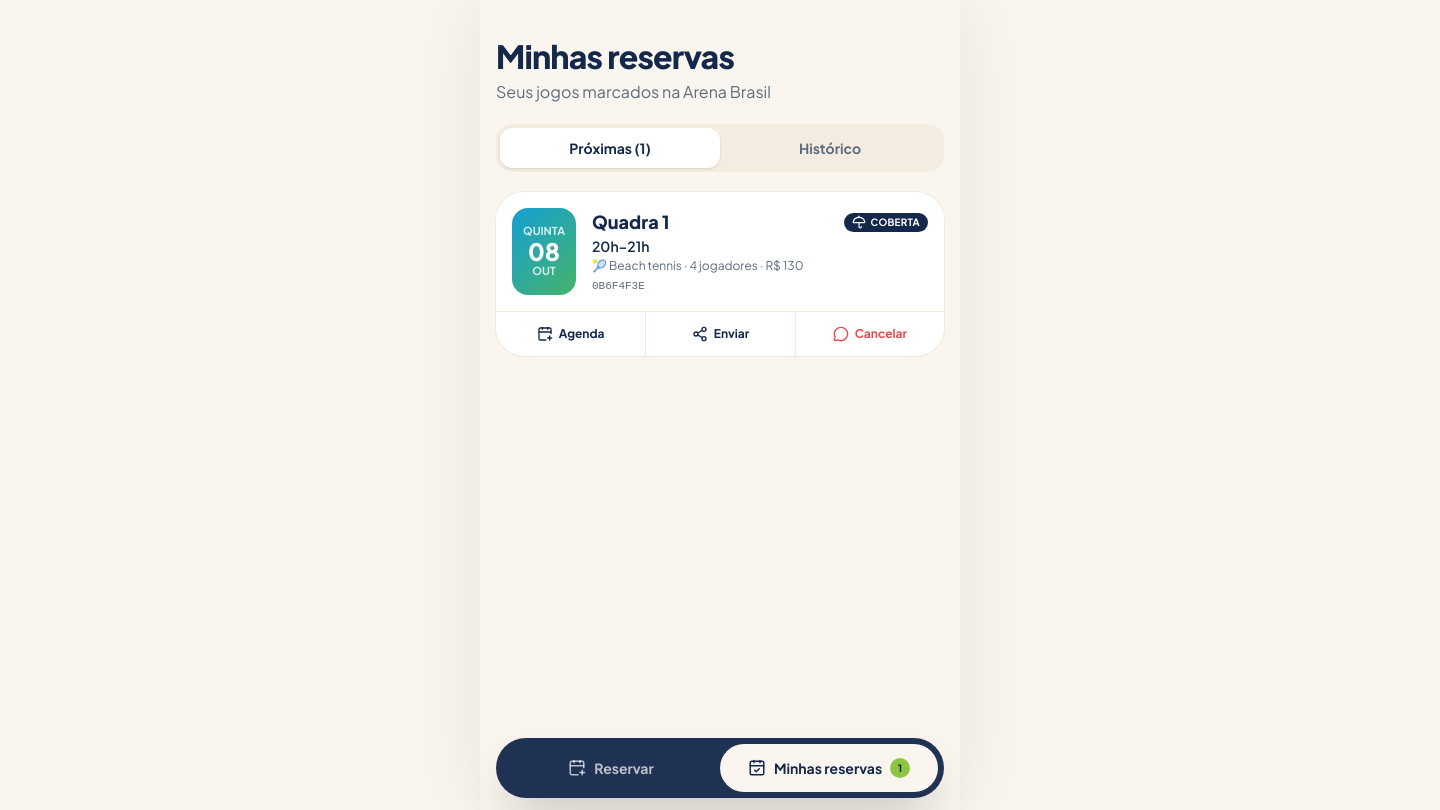
Test: minhas reservas › separa próximas e passadas e pede cancelamento pelo WhatsApp
The image size is (1440, 810).
expect the button "Próximas (1)" is shown: met, box left=500, top=128, right=720, bottom=168
expect the text "20h–21h" is shown: met, box left=592, top=237, right=649, bottom=255
Click the button "Cancelar" at point(869, 334), box left=795, top=312, right=944, bottom=356
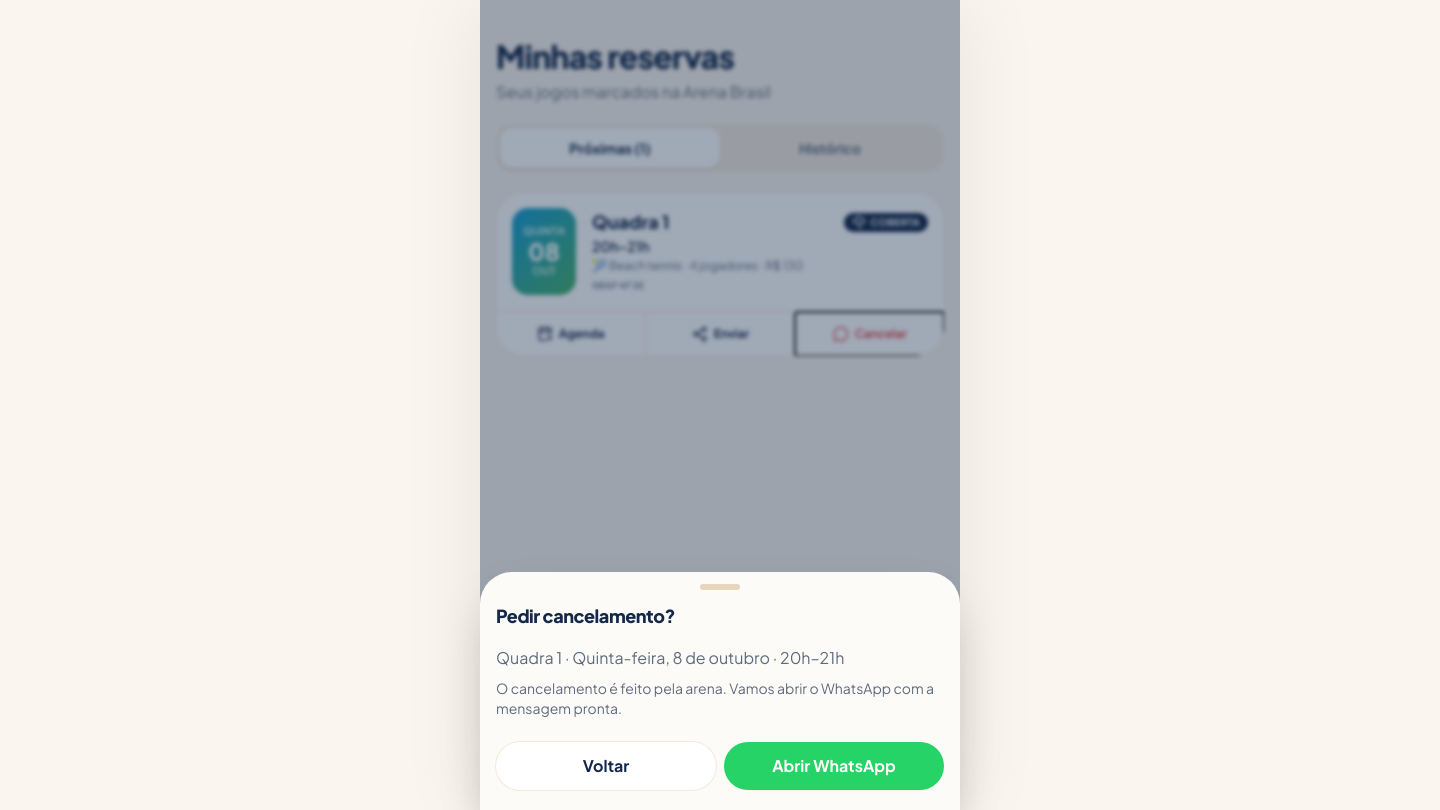
Click the button "Voltar" at point(606, 766), box left=496, top=742, right=716, bottom=790
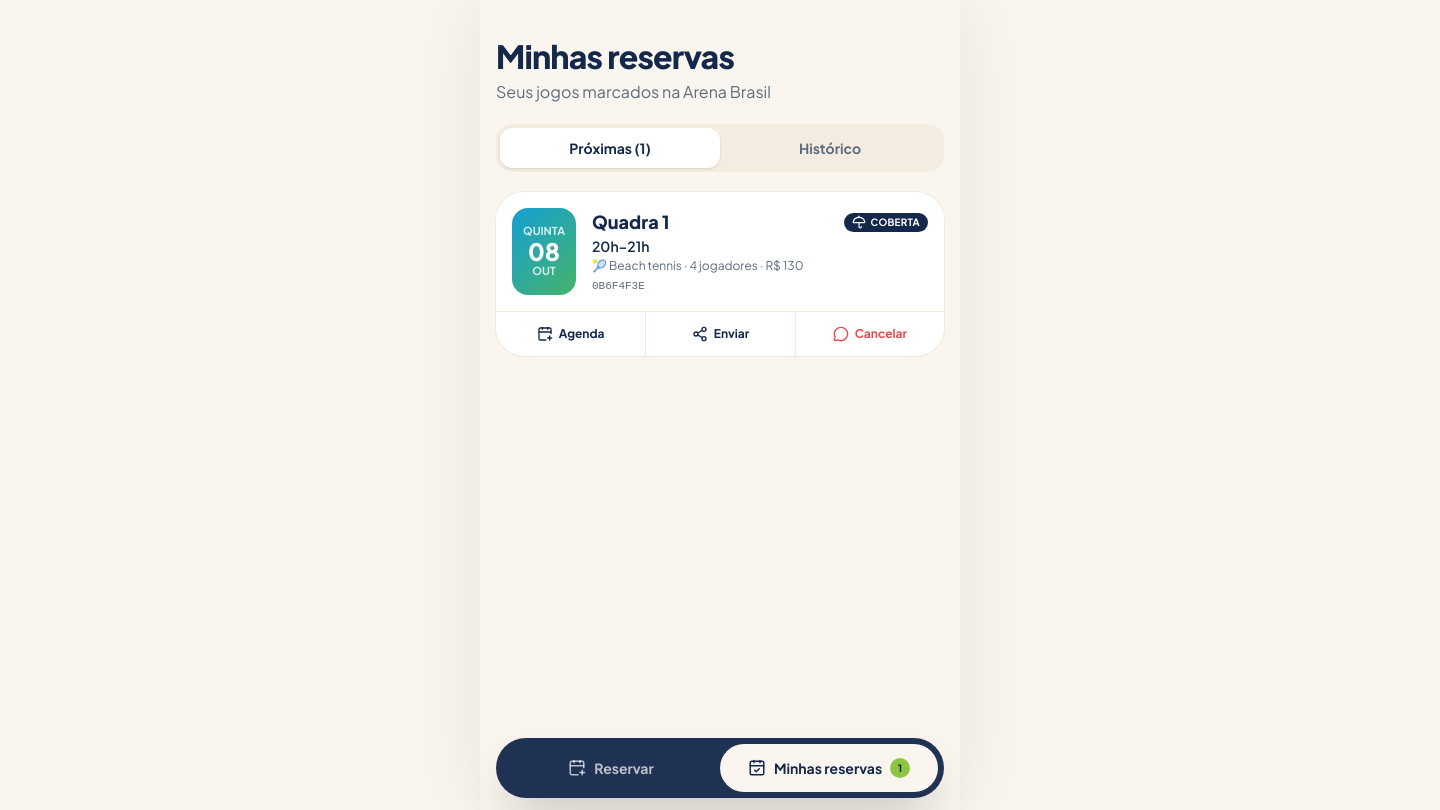
Click the button "Histórico" at point(830, 148), box left=720, top=128, right=940, bottom=168
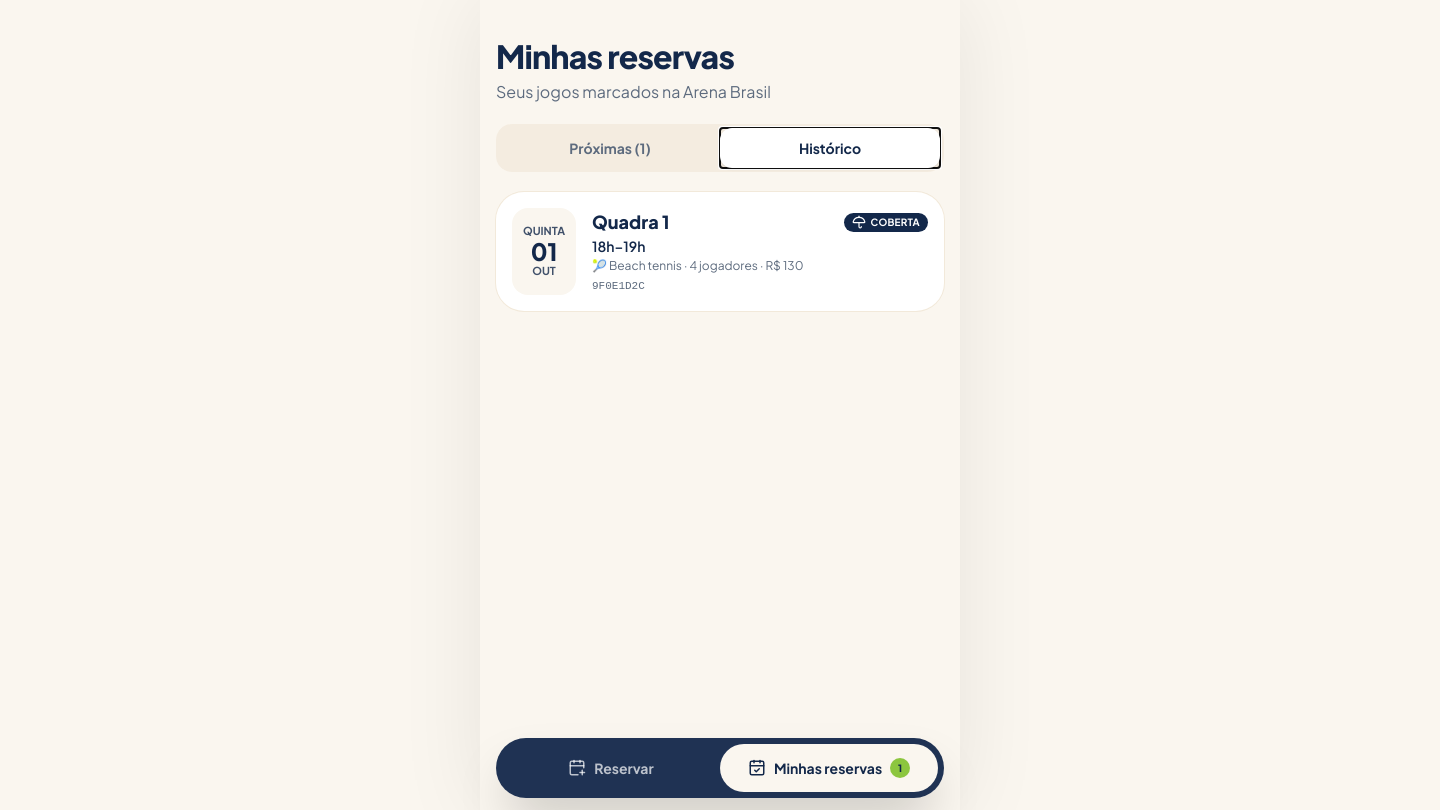
expect the text "18h–19h" is shown: met, box left=592, top=237, right=645, bottom=255
